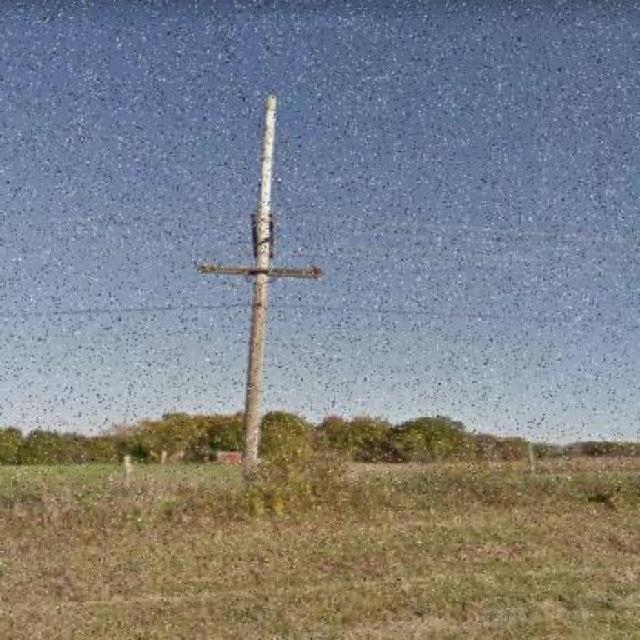pole: (129, 64, 356, 518)
